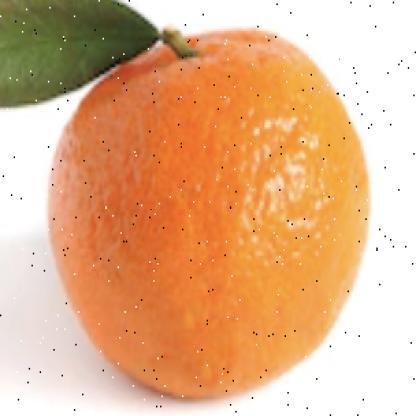orange: (42, 23, 380, 400)
